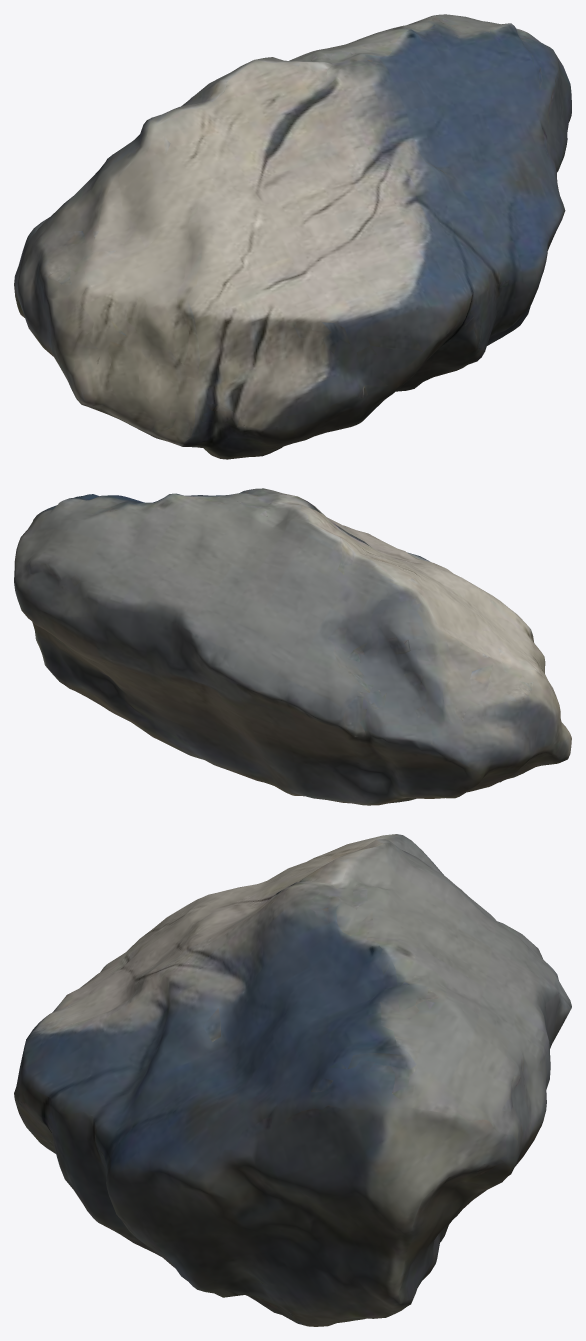
File: Meshy_AI_Stylized_rock_0224025150_texture.glb
3 renders of one model, top to bottom at view 1: azimuth 30°, elevation 25°; view 2: azimuth 150°, elevation 25°; view 3: azimuth 270°, elevation 25°, orthographic. The views are drawn at different scales.
Size of the model in its own units: 2 by 1.1 by 1.39.
1 material, 1 textured.
